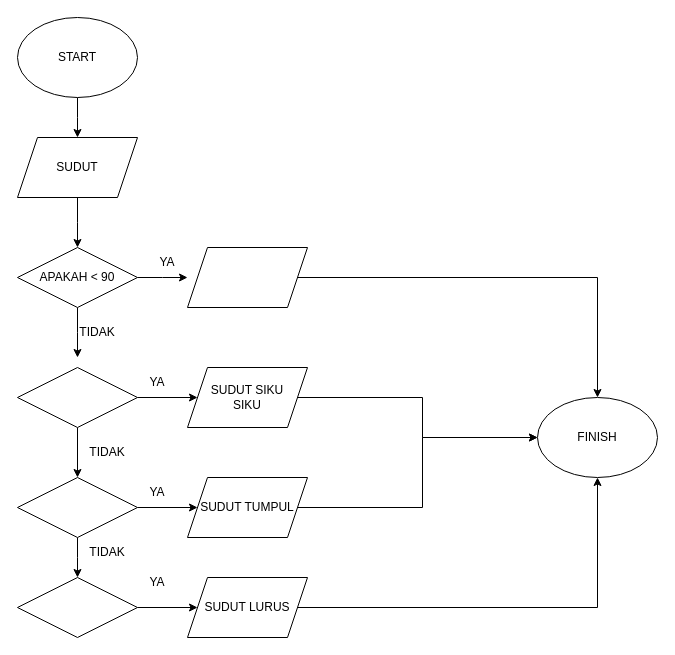
This 675x655 diagram has some shape labels left out. The centre of each missing label's shape, as x and y in pixels:
"APAKAH < 180" goes at point (77, 507).
"APAKAH = 180" goes at point (77, 607).
"APAKAH = 90" goes at point (77, 397).
"SUDUT LANCIP" goes at point (247, 277).
